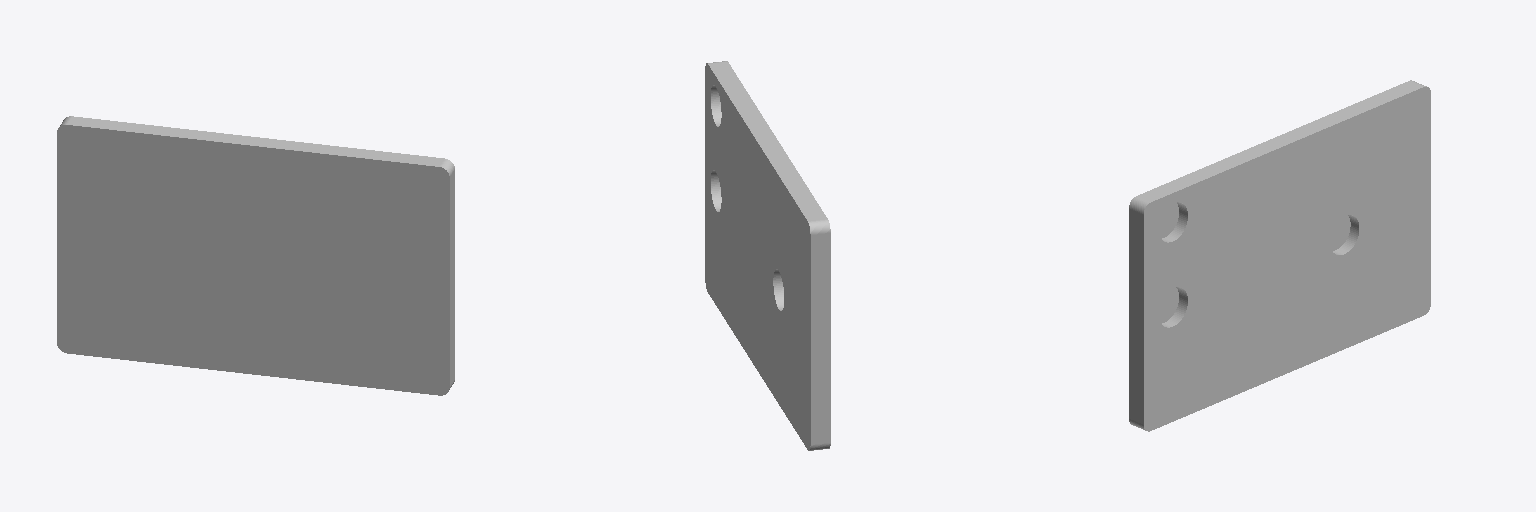
The model's file is V5_Mirror Plate Horizontal.obj.
3 views of the same model, side by side, from view 1: azimuth 30°, elevation 25°; view 2: azimuth 150°, elevation 25°; view 3: azimuth 270°, elevation 25° (orthographic).
Visible parts, largest first — view 1: Solid1:29; view 2: Solid1:29; view 3: Solid1:29.
Boxes of the visible parts, box(x1,y1,x2,y2) form: Solid1:29: box(57, 116, 454, 395); Solid1:29: box(705, 61, 830, 450); Solid1:29: box(1129, 80, 1430, 431).
Size of the model in its own units: 36.22 by 30.25 by 36.22.